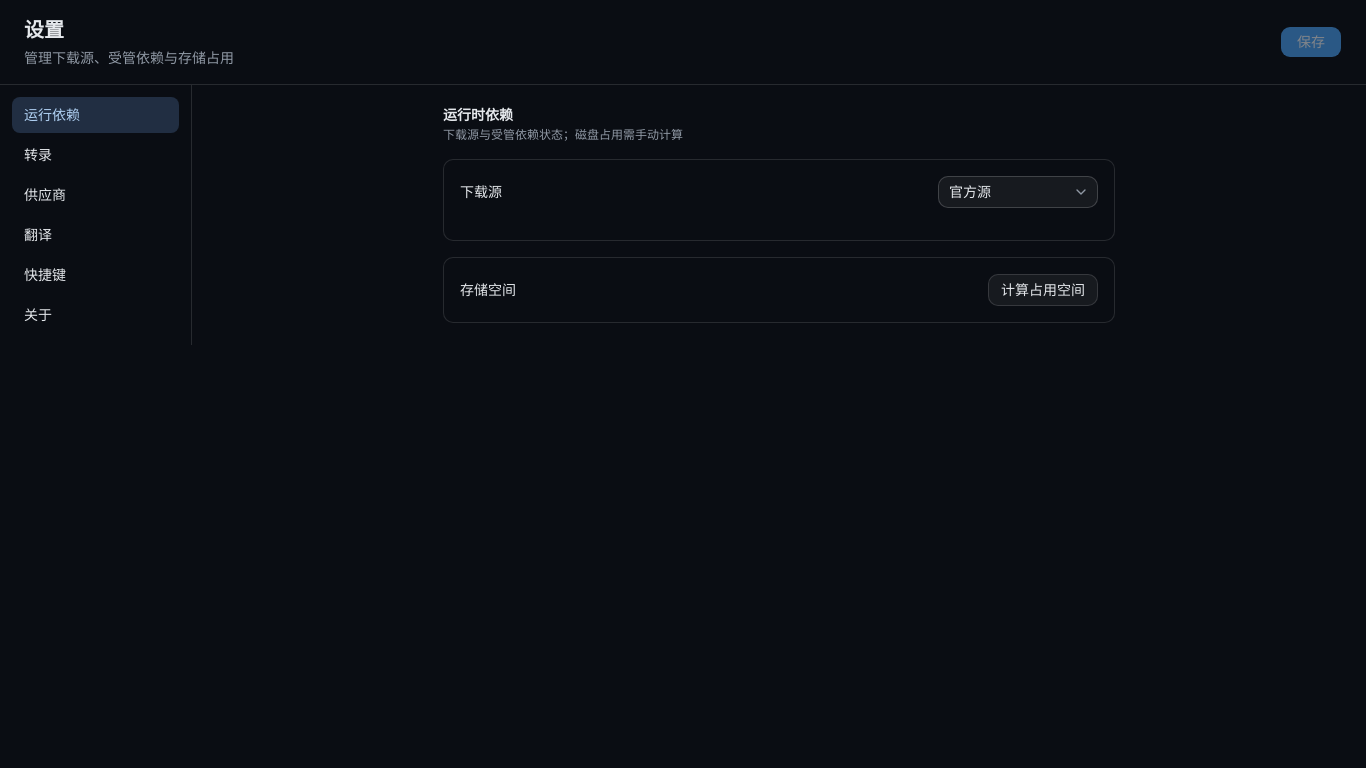
Test case: Settings legacy Python cleanup › requires measurement and confirmation, then refreshes away the removed residue
Expected: the text "旧版 Python 转录环境" is not shown
What coordinates should you click on to do the following:
click the button "计算占用空间"
I would click on:
 (1043, 290)
Its box is [988,274,1098,306].
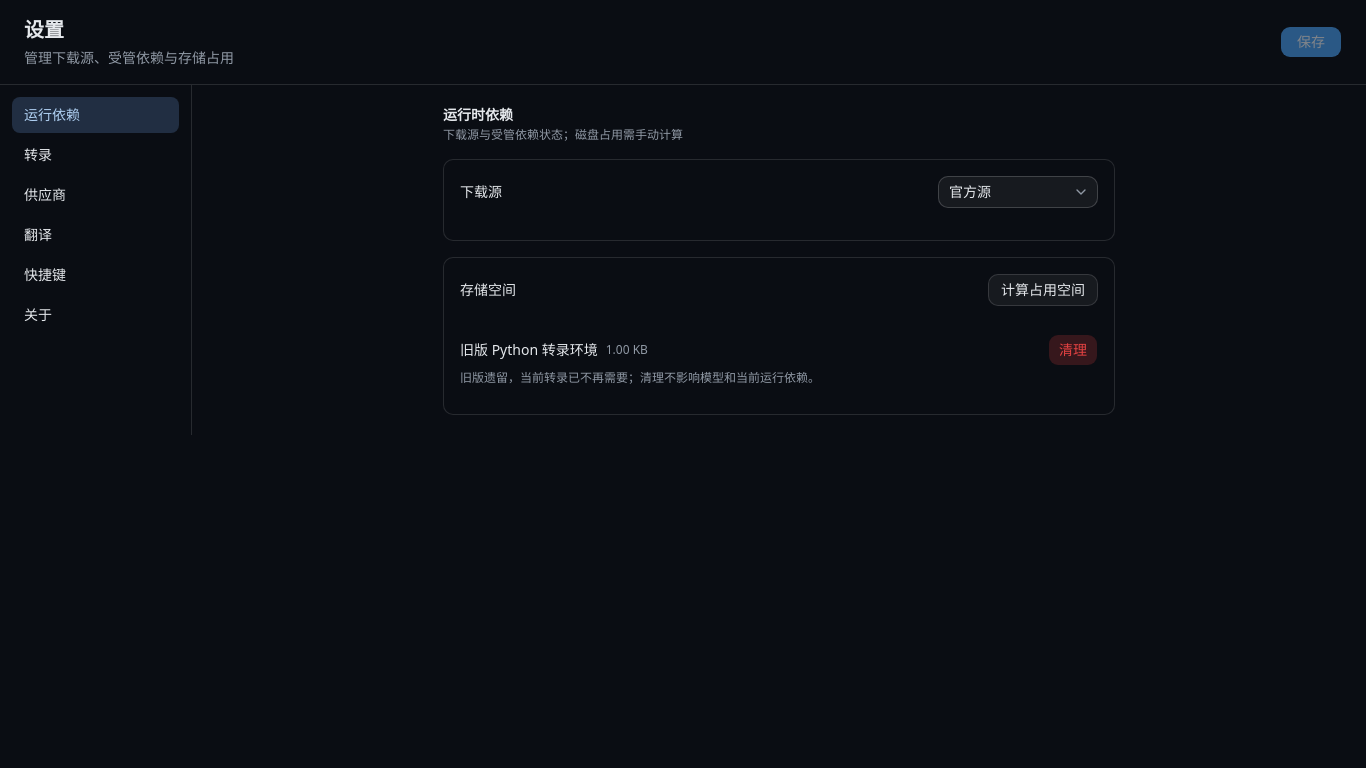
What coordinates should you click on to do the following:
click the button "清理"
I would click on:
 (1073, 350)
Its box is [1048,334,1098,366].
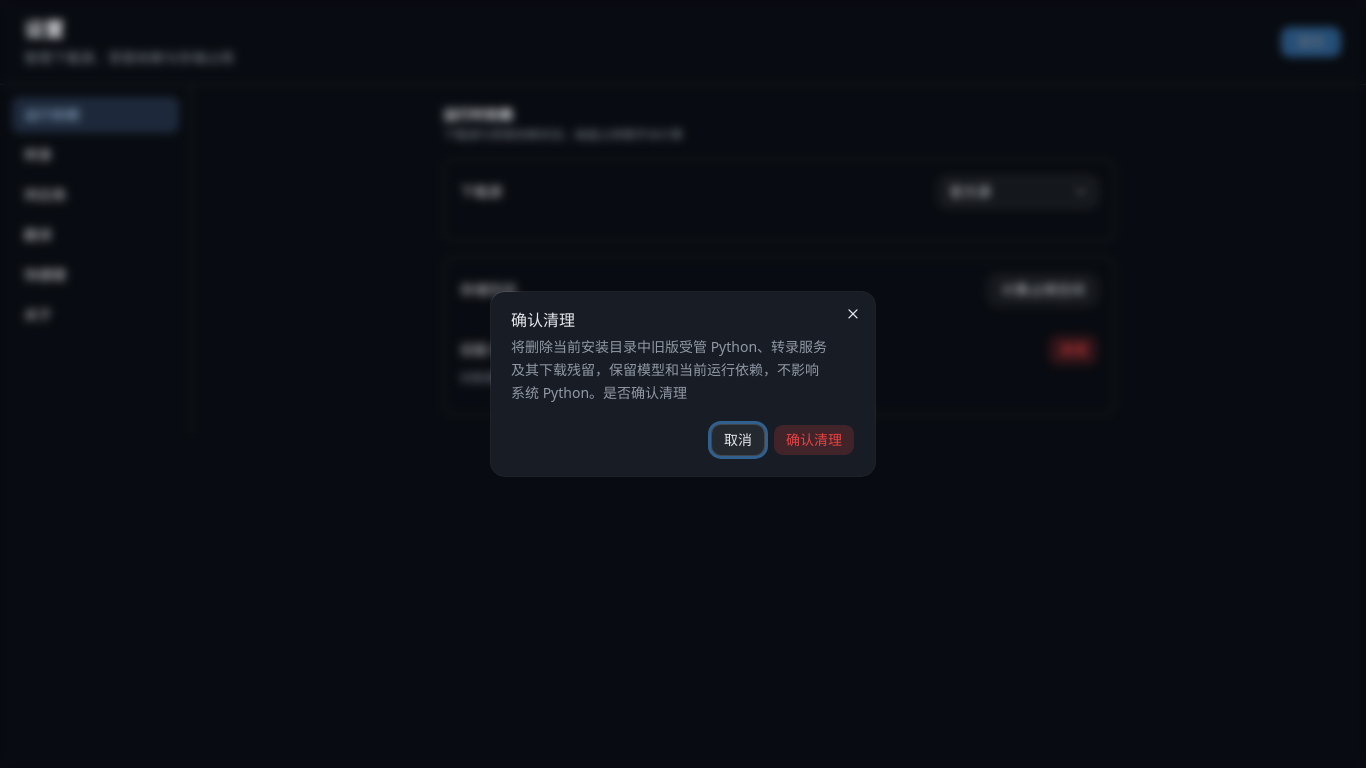
Expected: the text "保留模型和当前运行依赖，不影响系统 Python" is shown, [511,337,827,401]
What coordinates should you click on to do the following:
click the button "取消"
I would click on:
 (738, 440)
Its box is [711,424,765,456].
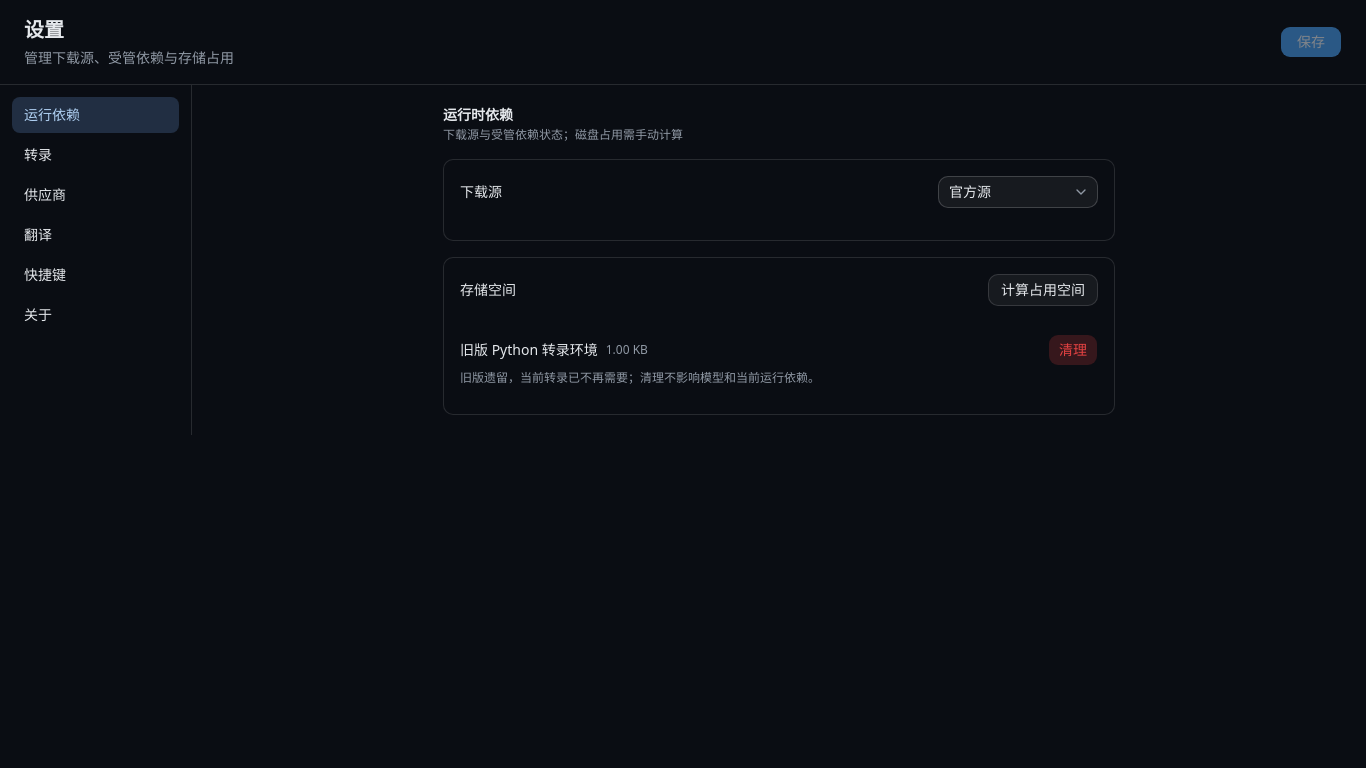
What coordinates should you click on to do the following:
click the button "清理"
I would click on:
 (1073, 350)
Its box is [1048,334,1098,366].
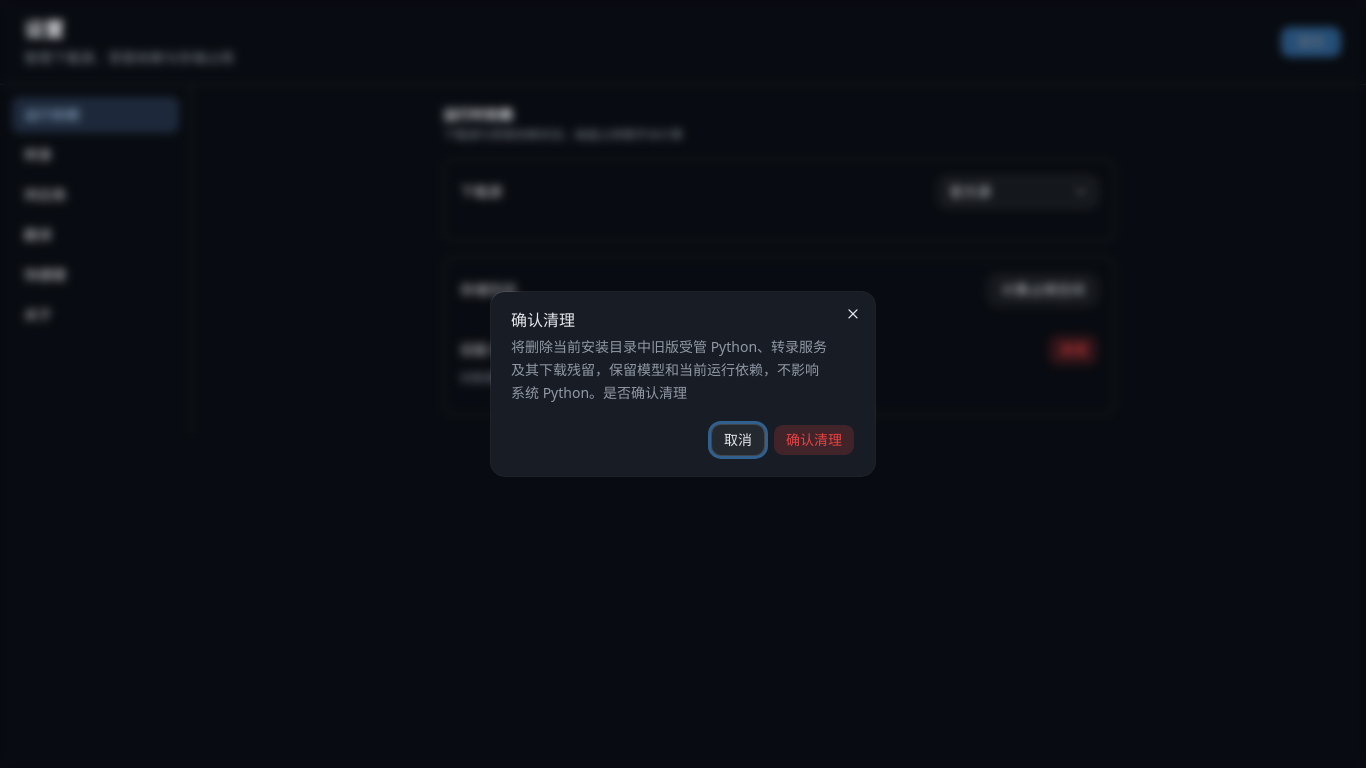
What coordinates should you click on to do the following:
click the button "确认清理"
I would click on:
 (814, 440)
Its box is [773,424,855,456].
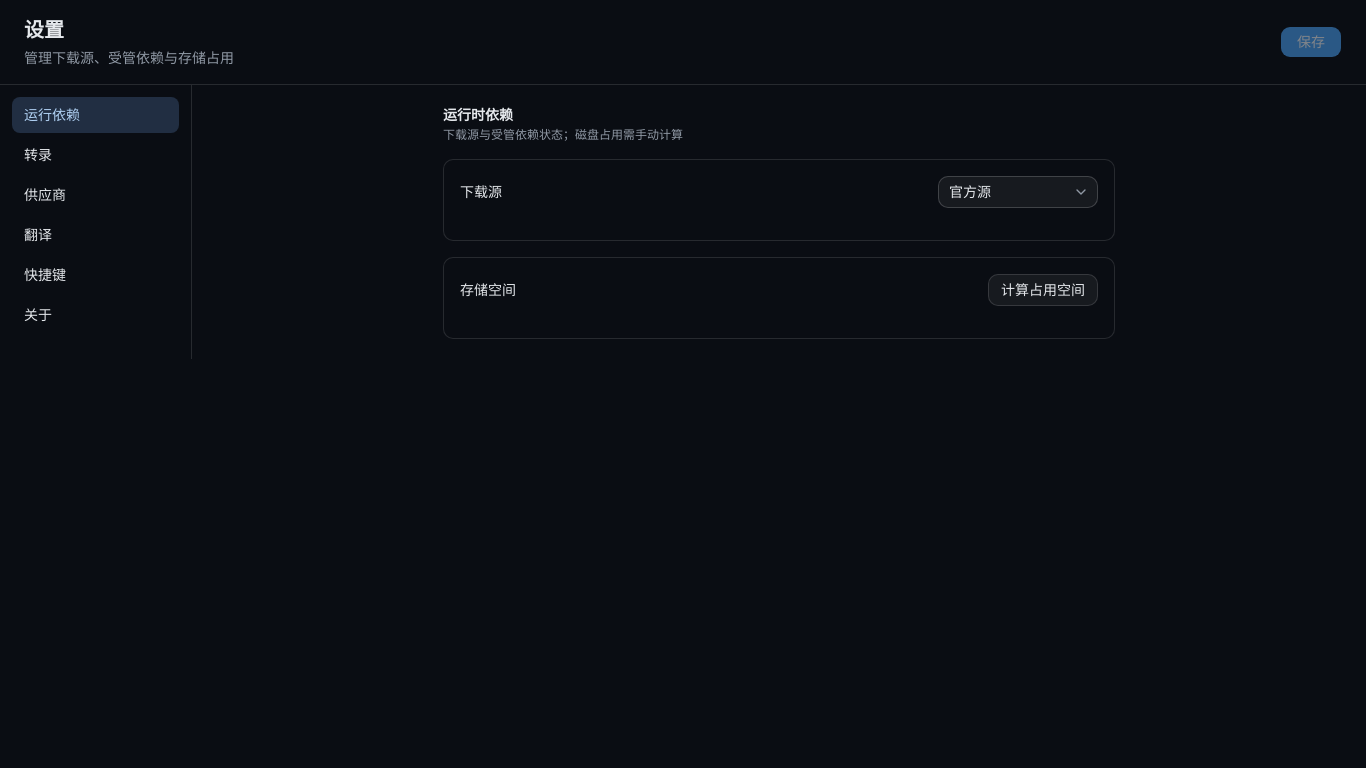
Expected: the text "旧版 Python 转录环境" is gone
